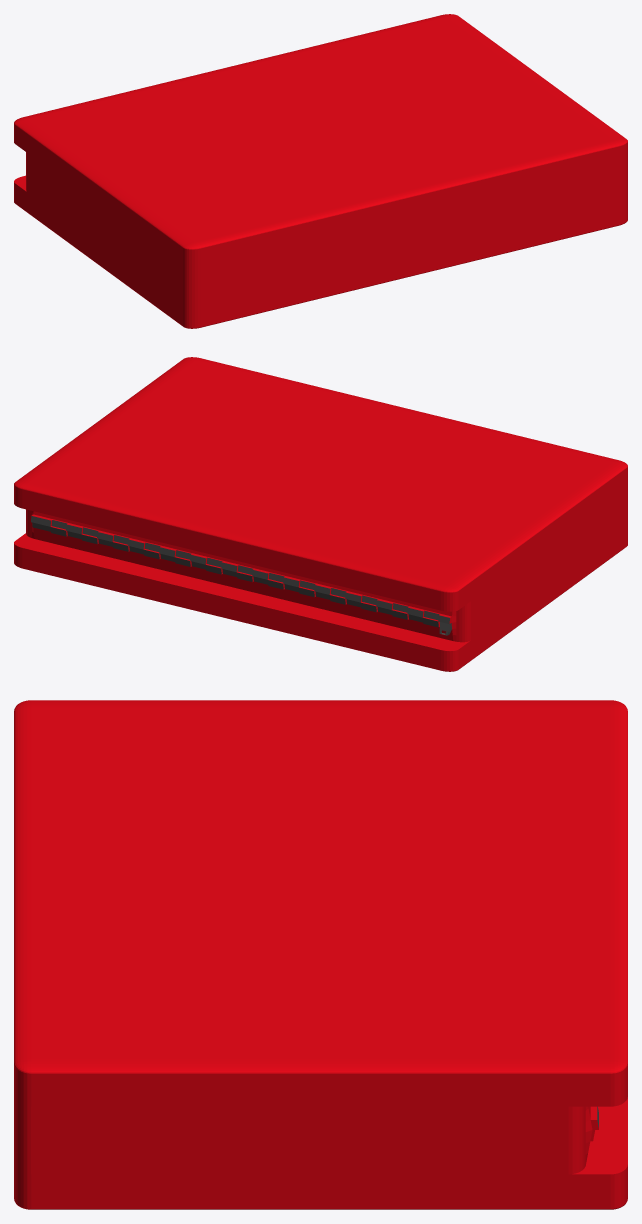
File: cartuchera2texture.fbx
3 renders of one model, top to bottom at view 1: azimuth 30°, elevation 25°; view 2: azimuth 150°, elevation 25°; view 3: azimuth 270°, elevation 25°, orthographic. The views are drawn at different scales.
Parts seen in each view (by area): view 1: Cube; view 2: Cube; view 3: Cube.
Boxes of the visible parts, x1,y1,x2,y2 form: Cube: (14, 14, 627, 328); Cube: (14, 357, 627, 671); Cube: (14, 700, 627, 1209).
Bounding box in the file's own units: 531 × 95.28 × 369.
